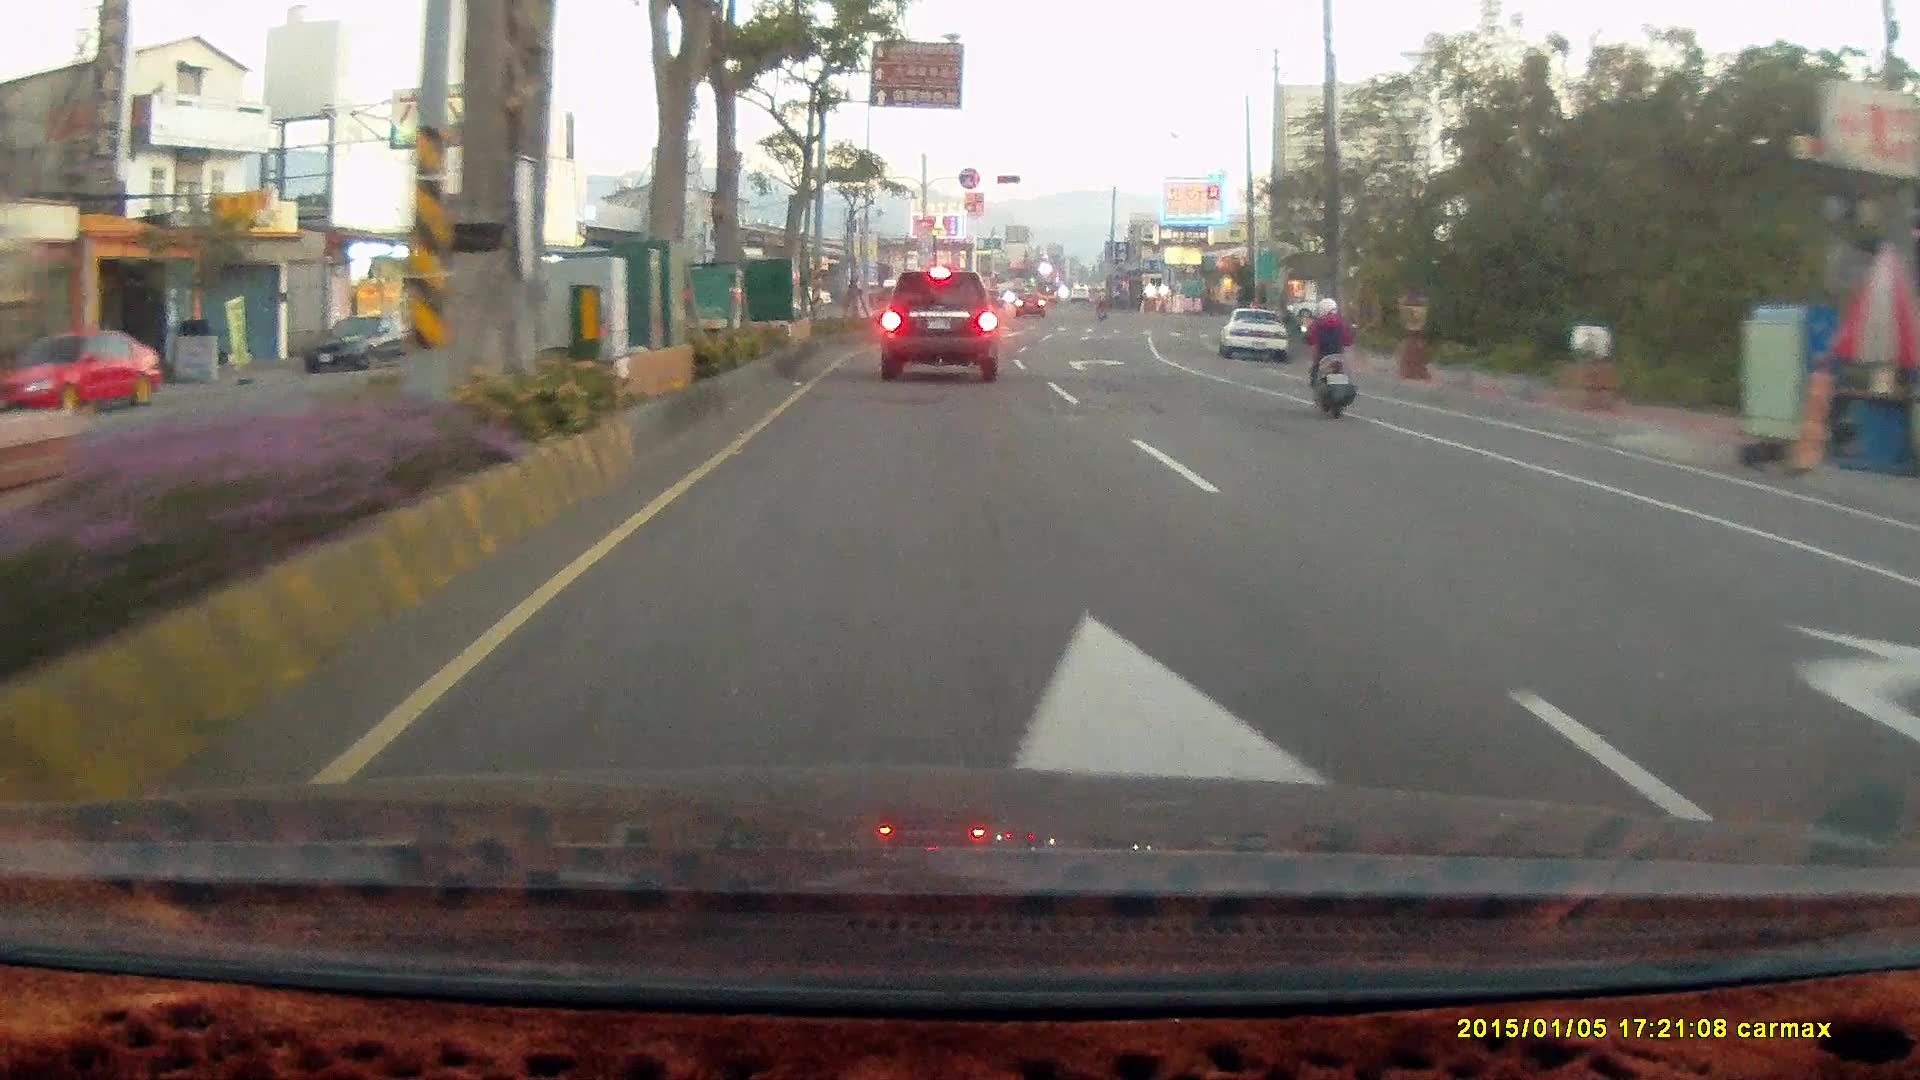rider: (1298, 294, 1356, 420)
vehicle: (879, 266, 998, 383), (1, 334, 161, 419), (1896, 493, 1920, 836), (299, 313, 411, 377), (1883, 528, 1920, 690), (1218, 306, 1288, 363), (1222, 308, 1293, 362)
